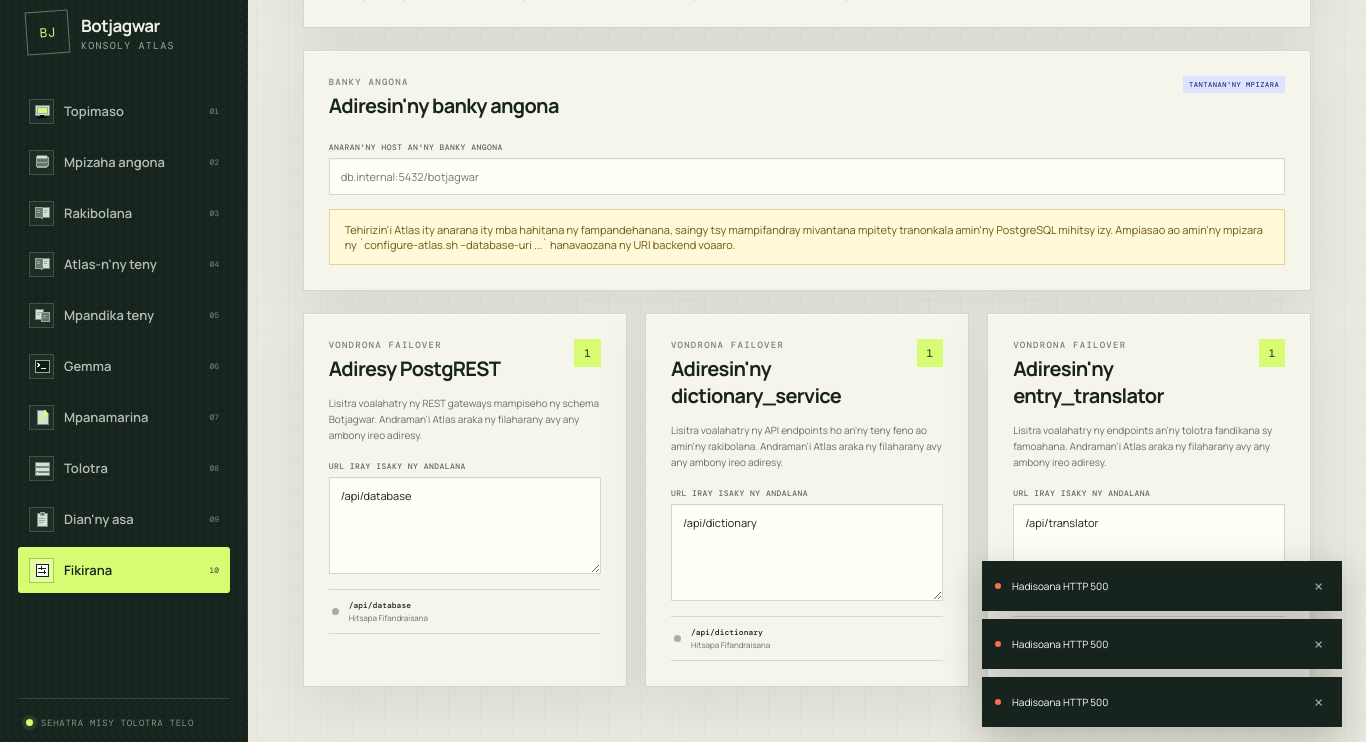
App settings route › discards unsaved fields when configuration is reloaded
This screenshot has width=1366, height=742.
(page scrolled)
Replace the text in the text box showing "/api/database" below "Adiresy PostgREST" with "/api/unsaved": (465, 525) [329,477,601,574]
(page scrolled)
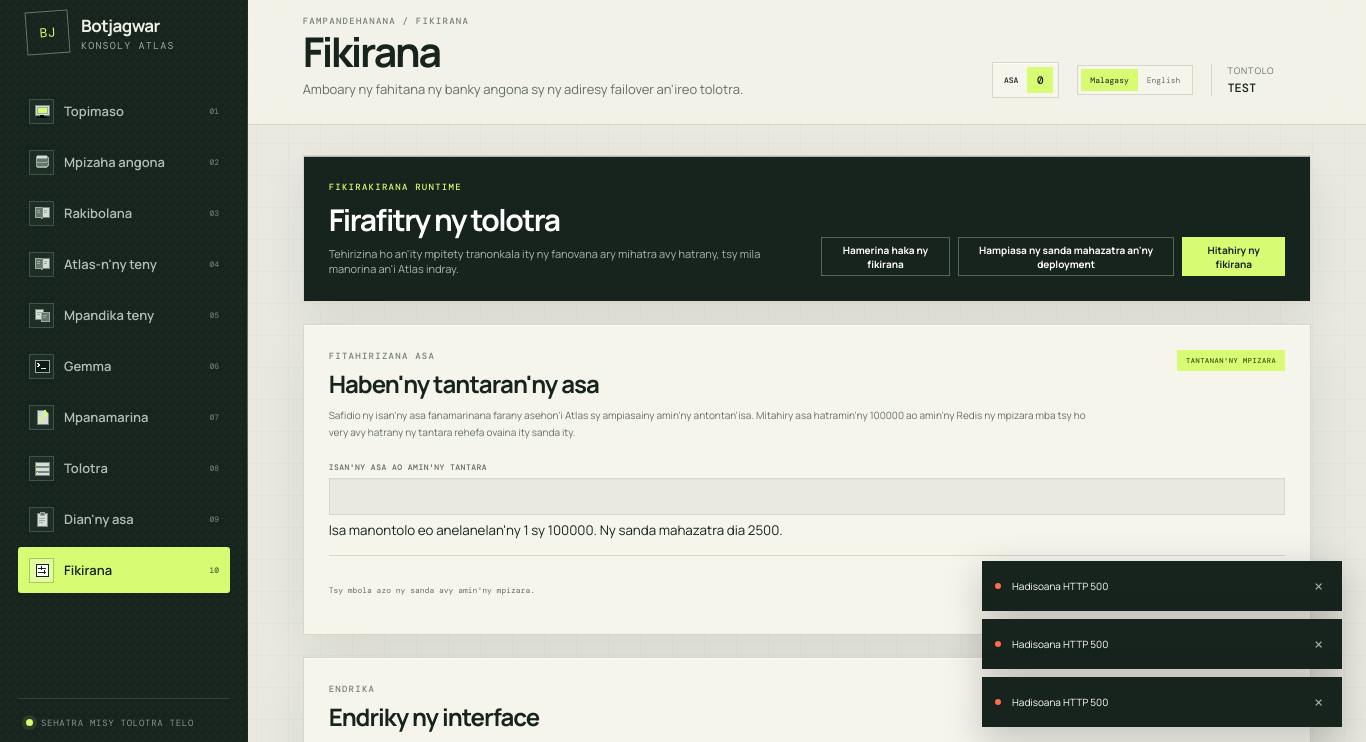
Click the button "Hamerina haka ny fikirana": (885, 256) [821,237,950,276]
(page scrolled)
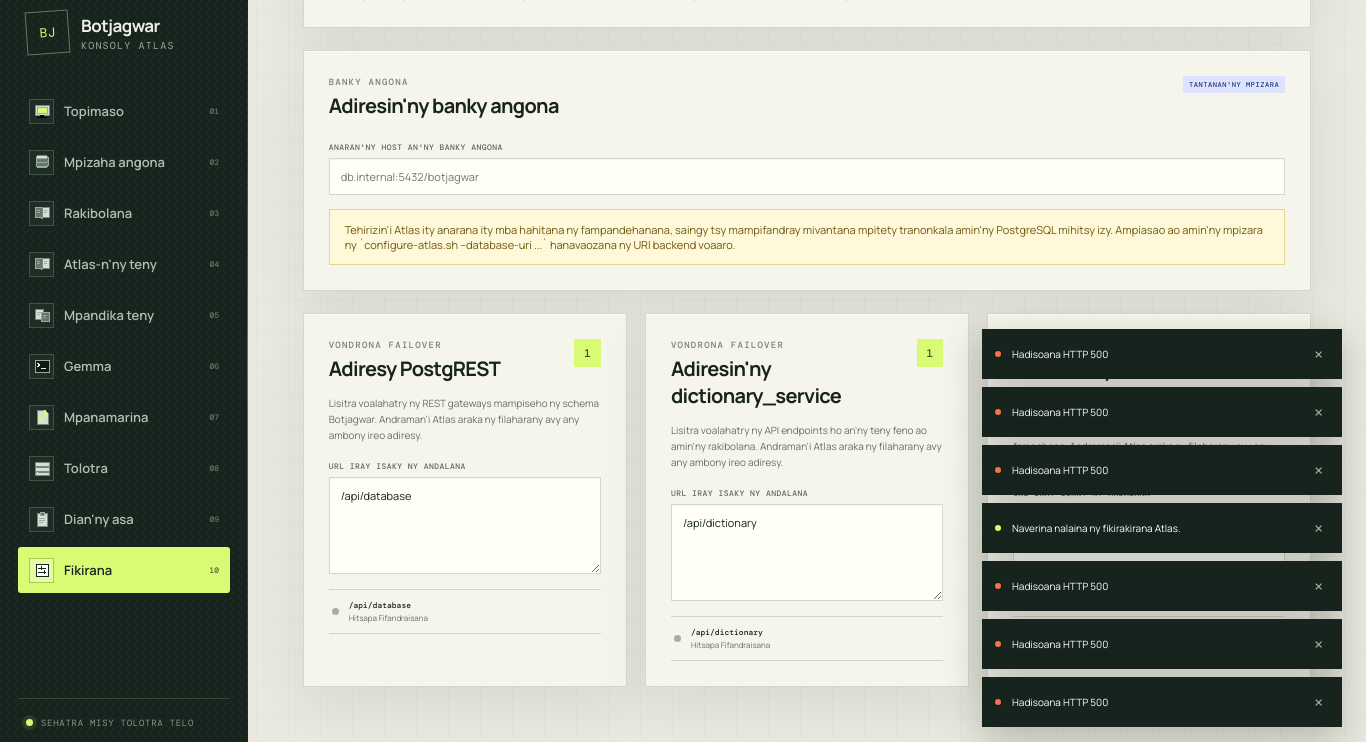
Check: the text box showing "/api/database" below "Adiresy PostgREST" is shown, box [329,477,601,574]
